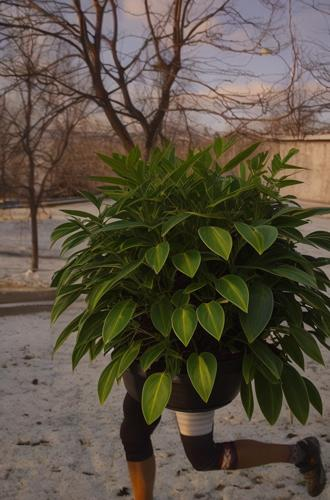person: (75, 163, 327, 500)
person/foot: (297, 436, 326, 497)
person/hand: (78, 279, 118, 304), (145, 361, 173, 386)
person/head: (113, 163, 165, 240)
pottedplant: (50, 132, 330, 424)
